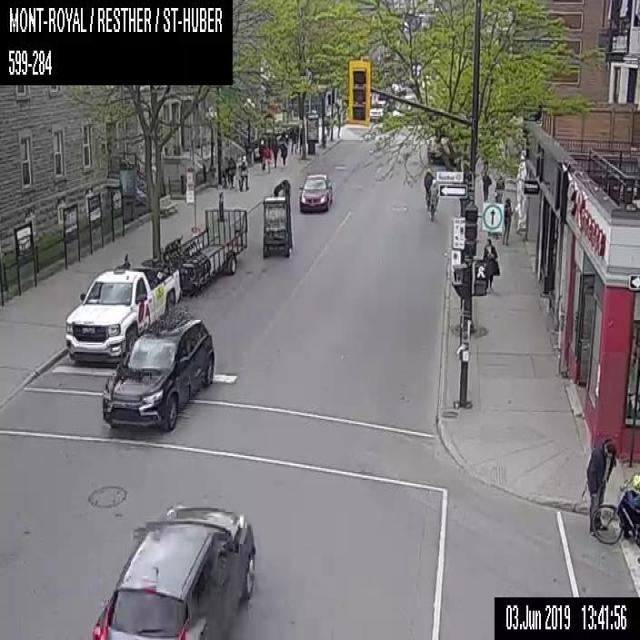cyclist: (591, 468, 639, 545), (427, 179, 439, 220), (423, 167, 433, 206)
pedestrian: (586, 439, 614, 533), (481, 236, 499, 289), (502, 197, 512, 244), (238, 153, 248, 190), (227, 156, 237, 188), (481, 170, 491, 202), (220, 155, 229, 188), (261, 143, 271, 172), (494, 174, 504, 202), (289, 126, 296, 154), (280, 140, 286, 165), (258, 138, 264, 162), (272, 142, 278, 166), (298, 126, 302, 153)
vehicle: (64, 206, 246, 364), (91, 504, 254, 638), (102, 313, 214, 432), (262, 178, 292, 258), (298, 172, 332, 212), (369, 99, 386, 120)
